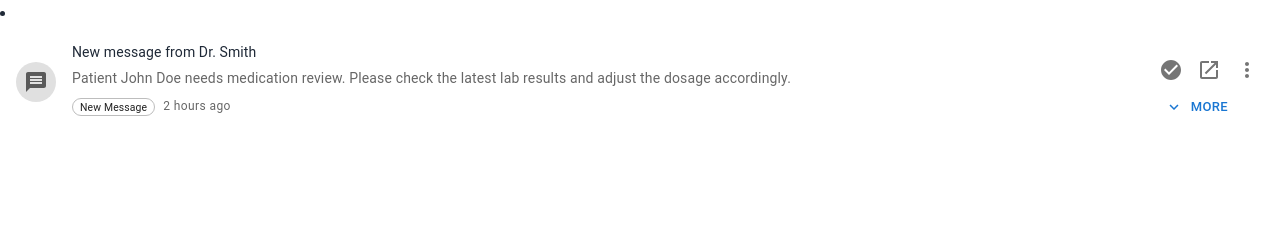
NotificationItem › Menu Actions › shows "Mark as unread" for read notifications
Step 1. Click the button named "more actions" → (1247, 70), box 1230,53 -> 1264,87
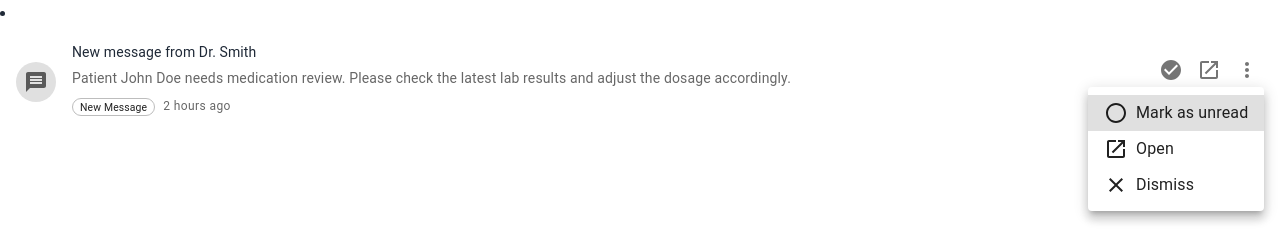
Now the menu item "Mark as unread" is shown, box 1088,95 -> 1264,131
